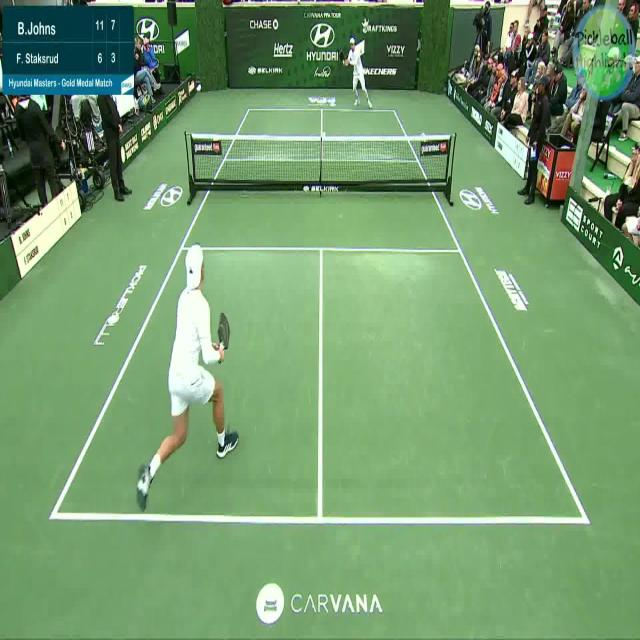ball: (340, 57, 346, 65)
